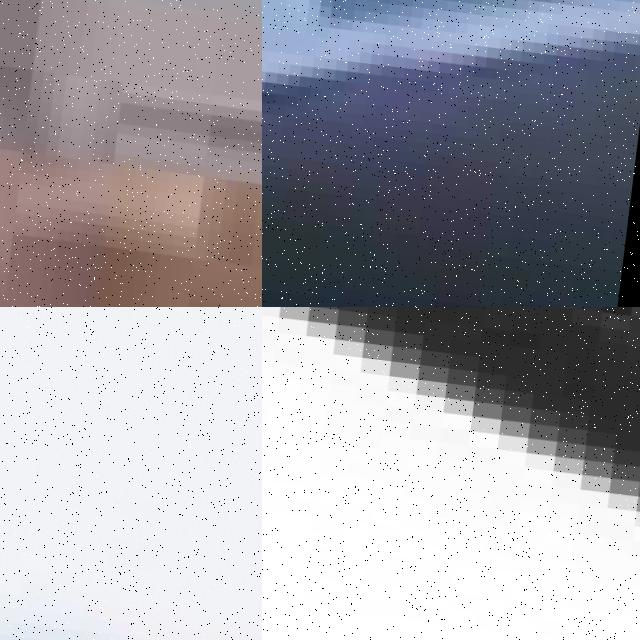drone: (0, 0, 262, 307)
